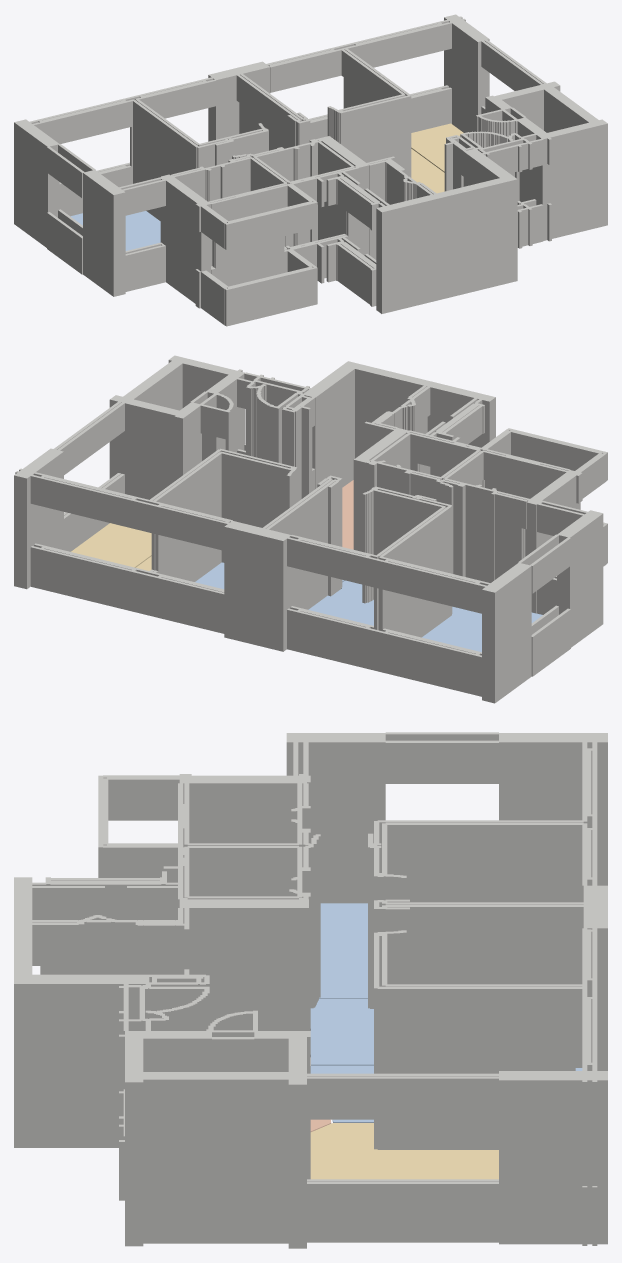
3 renders of one model, top to bottom at view 1: azimuth 30°, elevation 25°; view 2: azimuth 150°, elevation 25°; view 3: azimuth 270°, elevation 25°, orthographic. The views are drawn at different scales.
Visible parts, largest first — view 1: walls, room:living:8, room:bedroom:10, room:living:7; view 2: walls, room:living:8, room:bedroom:10, room:bedroom:1, room:kitchen:5; view 3: walls, room:living:7, room:bedroom:10, room:bedroom:1, room:bedroom:2.
Part boxes in pixels (x1,y1,x2,y2): walls: (14,14,607,326); room:living:8: (411,123,463,172); room:bedroom:10: (70,211,160,250); room:living:7: (411,149,444,193); walls: (14,355,607,703); room:living:8: (71,523,151,567); room:bedroom:10: (422,606,542,652); room:bedroom:1: (308,580,373,625); room:kitchen:5: (342,480,353,549); walls: (14,732,607,1248); room:living:7: (310,1123,498,1179); room:bedroom:10: (319,903,367,998); room:bedroom:1: (310,999,373,1065); room:bedroom:2: (310,1065,582,1122).
Size of the model in its own units: 12.9 by 2.8 by 9.19.
